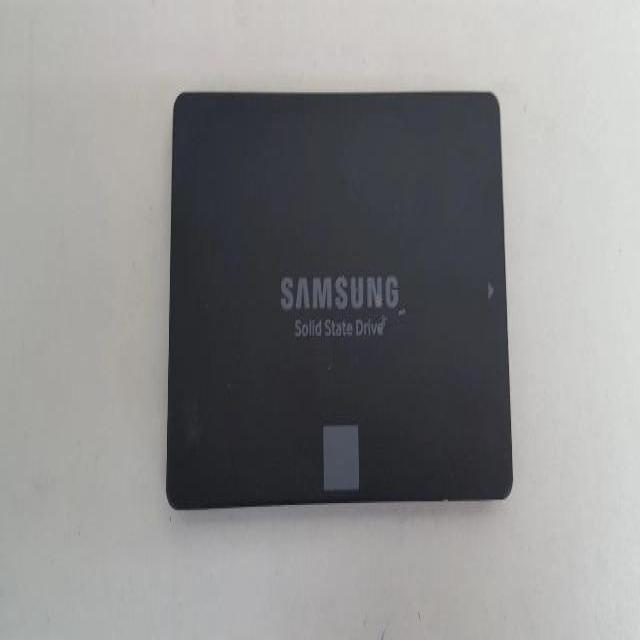DISK: (164, 89, 514, 514)
